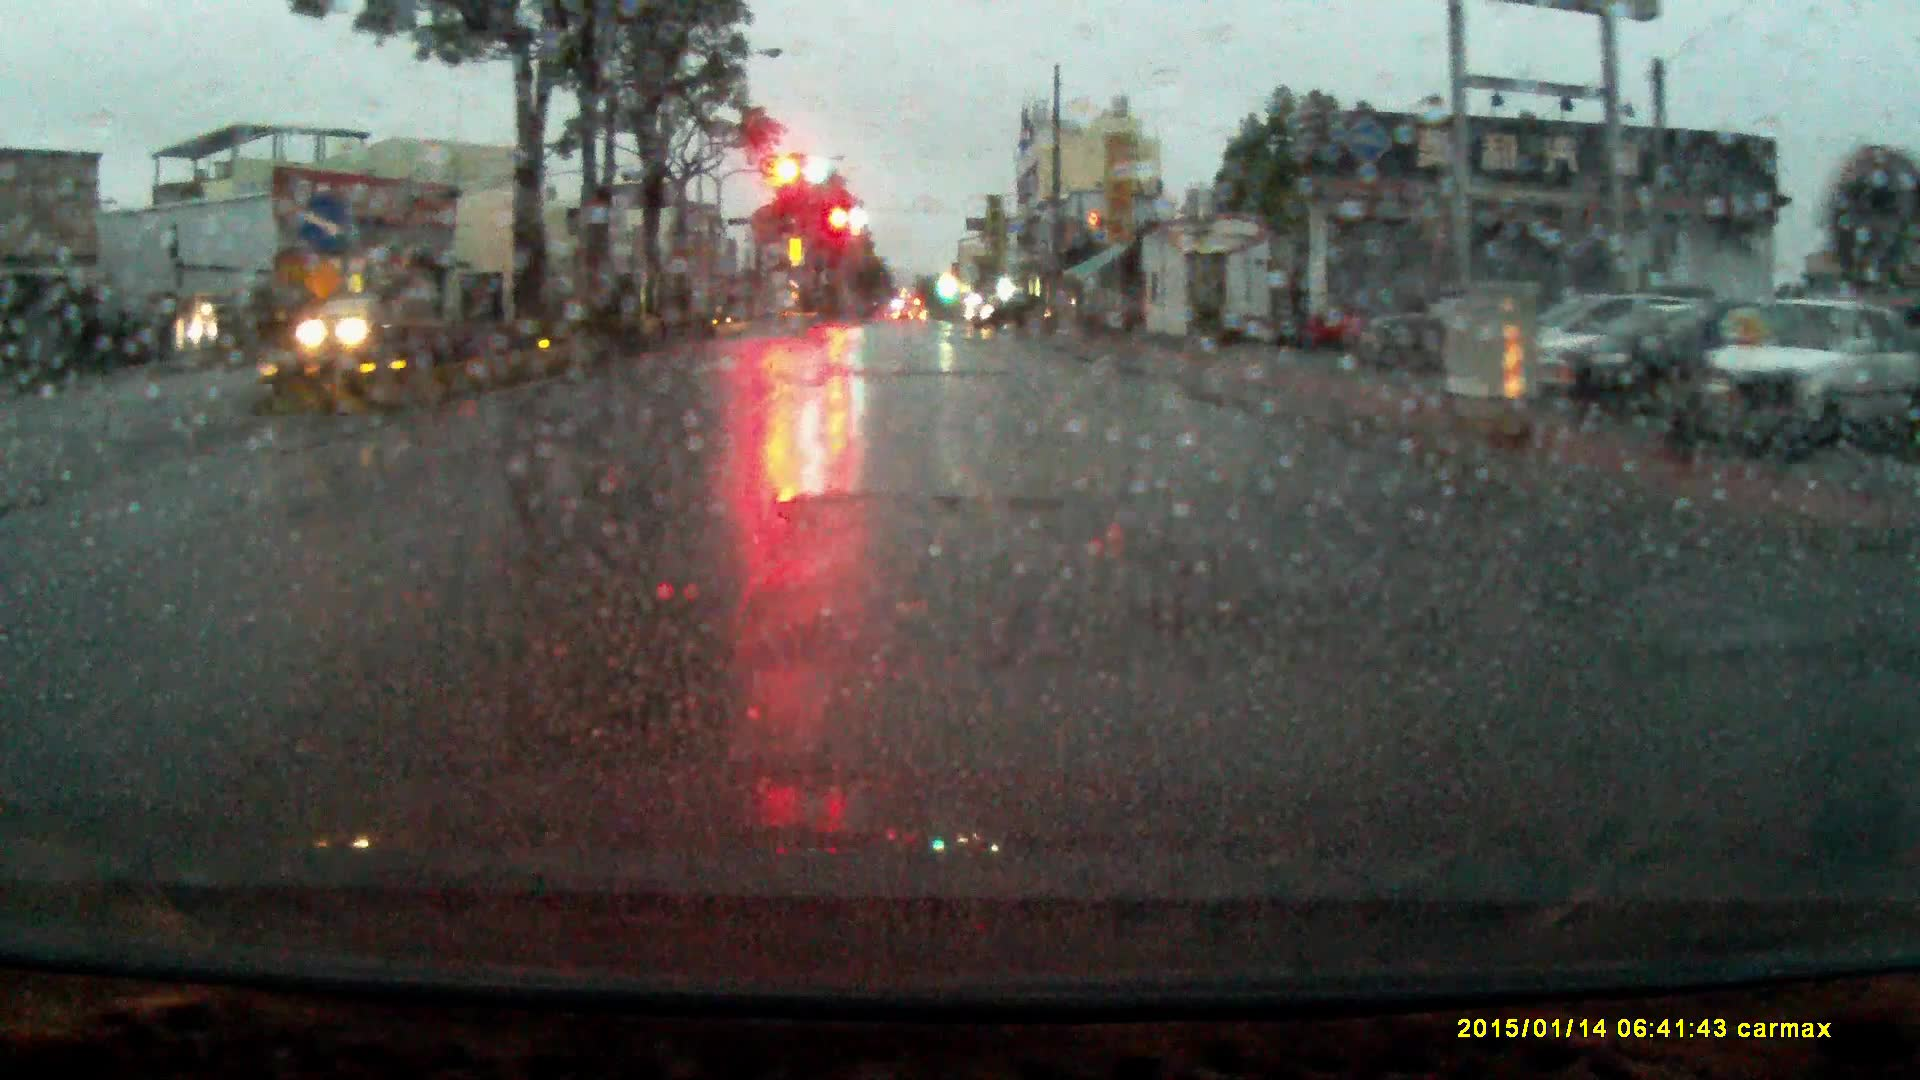vehicle: (1677, 301, 1920, 436), (1545, 298, 1768, 409), (1542, 295, 1739, 396), (1367, 290, 1466, 371), (298, 295, 401, 361), (964, 291, 1042, 328)
